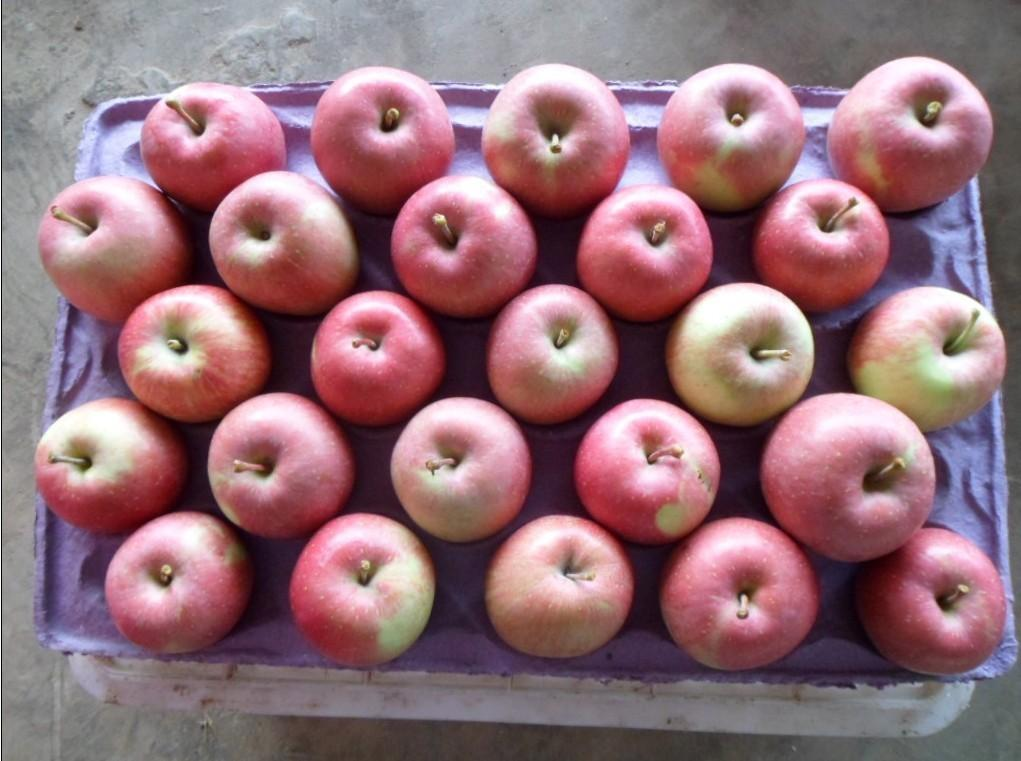apple: (761, 392, 936, 568), (827, 54, 996, 215), (846, 284, 1007, 437), (660, 517, 819, 669), (855, 521, 1010, 676), (482, 60, 630, 221), (40, 175, 194, 325), (290, 511, 438, 667), (111, 283, 272, 426), (208, 170, 359, 321), (100, 513, 258, 655), (390, 171, 538, 322), (664, 63, 809, 216), (312, 67, 455, 222), (575, 396, 721, 547), (208, 391, 356, 539), (666, 282, 816, 428), (34, 395, 189, 535), (484, 515, 634, 658), (393, 394, 532, 545), (576, 182, 716, 327), (485, 282, 620, 427), (752, 179, 896, 312), (312, 286, 445, 428), (140, 83, 284, 211)
